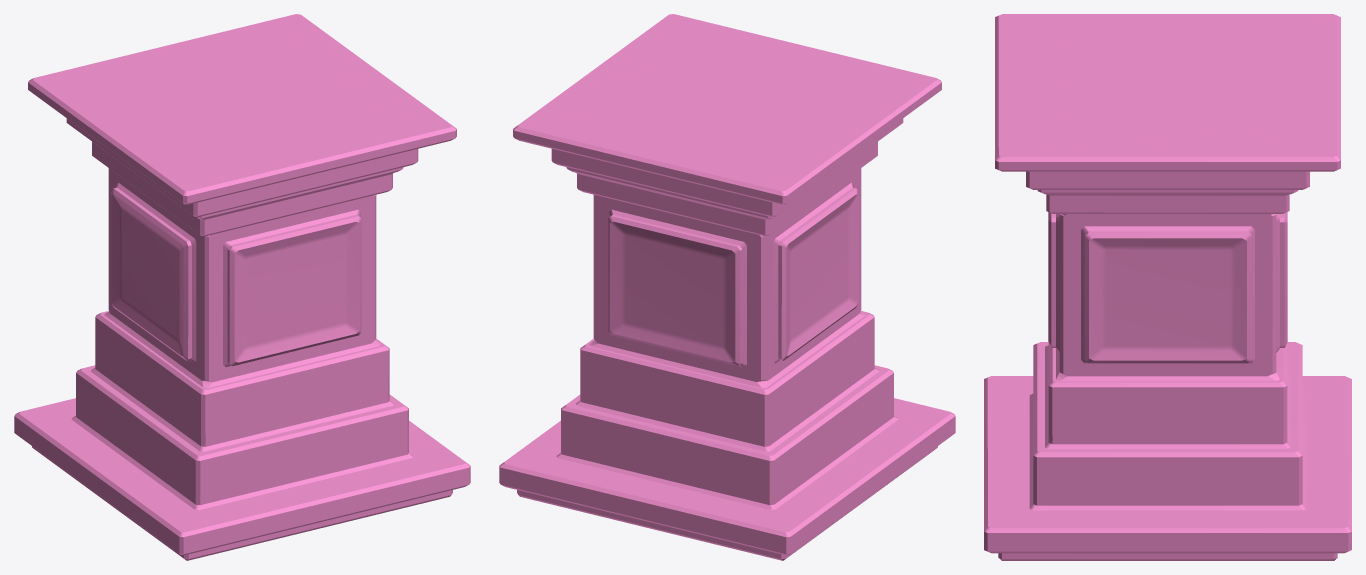
Rendered from piedestal.glb.
3 views of the same model, side by side, from view 1: azimuth 30°, elevation 25°; view 2: azimuth 150°, elevation 25°; view 3: azimuth 270°, elevation 25° (orthographic). The views are drawn at different scales.
Visible parts, largest first — view 1: node_id8; view 2: node_id8; view 3: node_id8.
Part boxes in pixels (x1,y1,x2,y2): node_id8: [14, 14, 470, 560]; node_id8: [499, 14, 955, 560]; node_id8: [984, 14, 1351, 560].
Bounding box in the file's own units: 0.4212 × 0.512 × 0.4212.
Materials: 1 (1 with a texture image).
